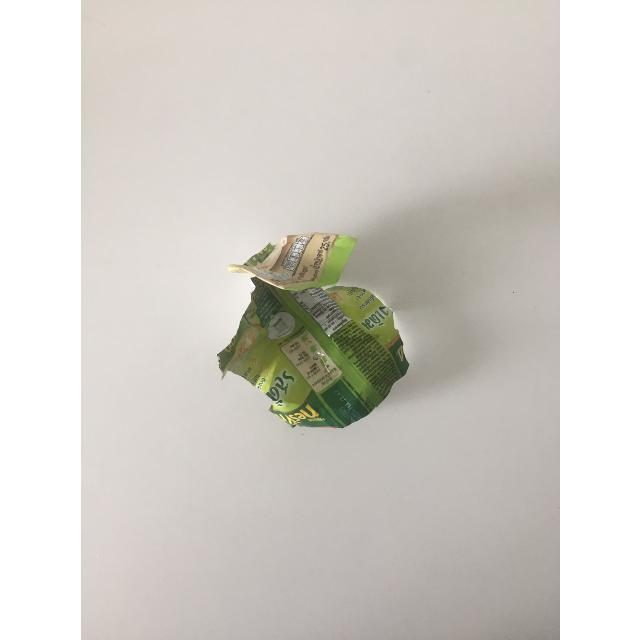Paquete de plastico: (220, 232, 408, 430)
